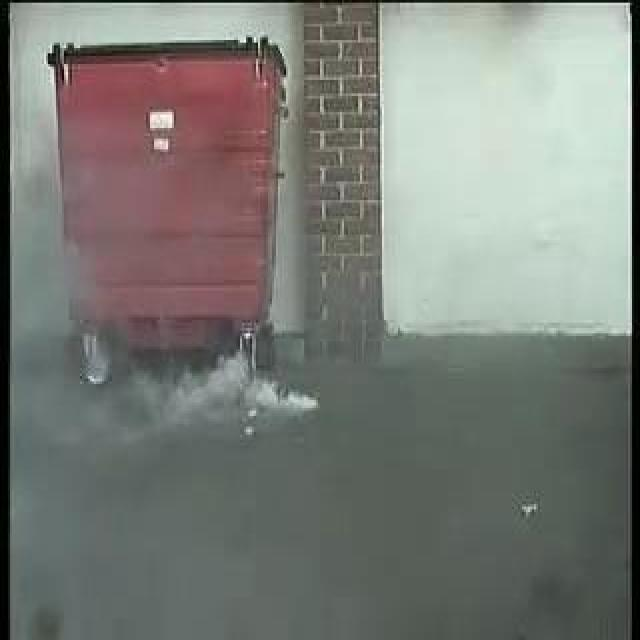Smoke: (151, 352, 313, 421)
